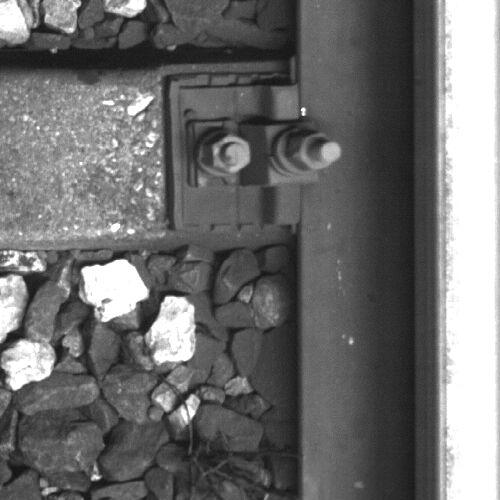kb: (180, 86, 340, 226)
nut: (284, 128, 343, 173), (201, 133, 252, 175)
rail: (436, 1, 500, 500)
tie_concr: (1, 62, 296, 237)
